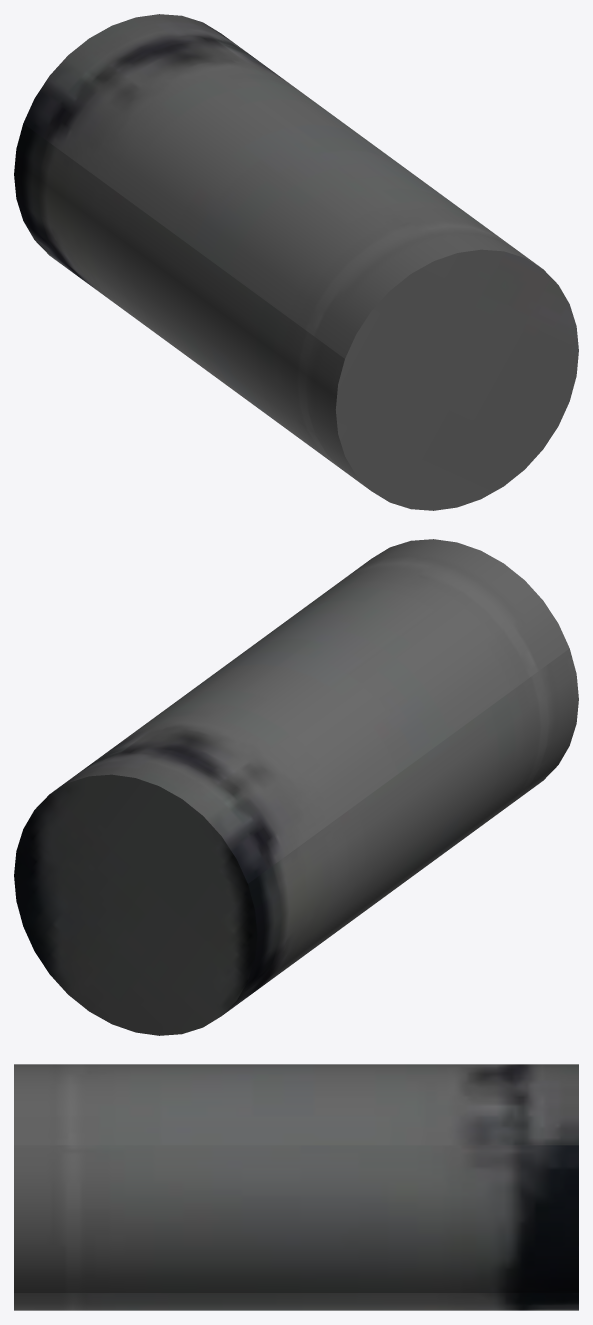
Rendered from housing__caster_stem_0.glb.
3 renders of one model, top to bottom at view 1: azimuth 30°, elevation 25°; view 2: azimuth 150°, elevation 25°; view 3: azimuth 270°, elevation 25°, orthographic. The views are drawn at different scales.
Visible parts, largest first — view 1: geometry_0; view 2: geometry_0; view 3: geometry_0.
Part boxes in pixels (x1,y1,x2,y2): geometry_0: [14, 14, 578, 510]; geometry_0: [14, 539, 578, 1035]; geometry_0: [14, 1064, 578, 1310].
Size of the model in its own units: 0.024 by 0.024 by 0.055.
Materials: 1 (1 with a texture image).
